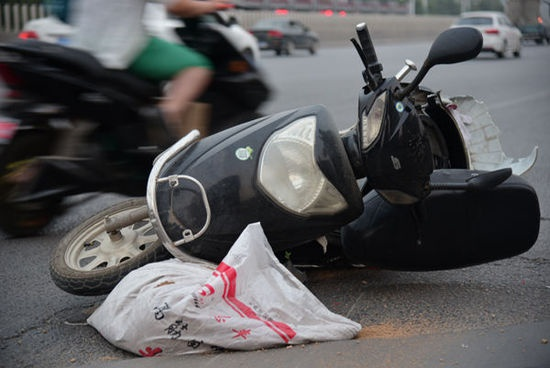non-vehicle: (48, 26, 543, 292), (0, 5, 264, 226)
